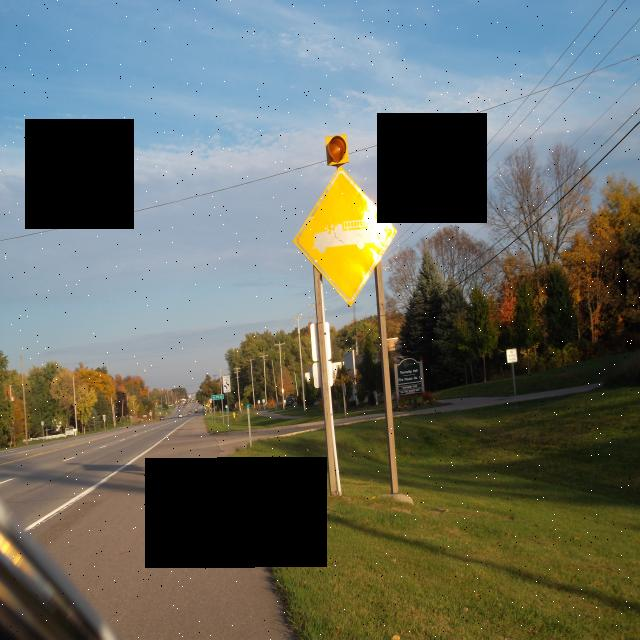warning: (295, 165, 399, 306)
